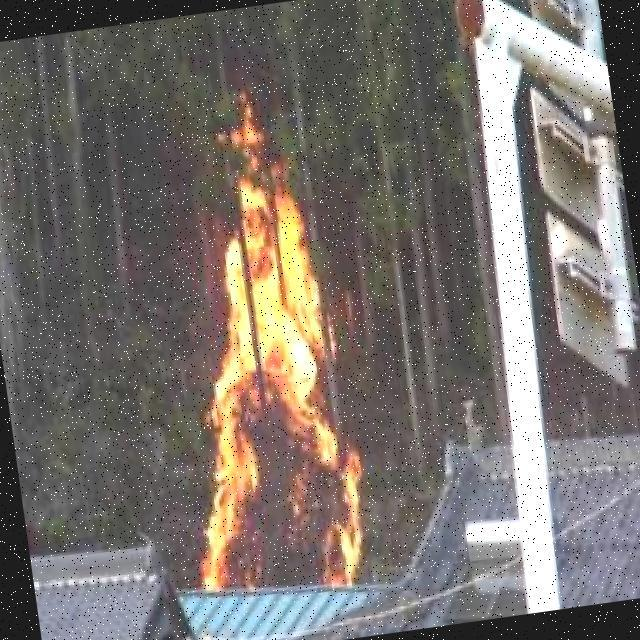Fire: (159, 177, 371, 596)
